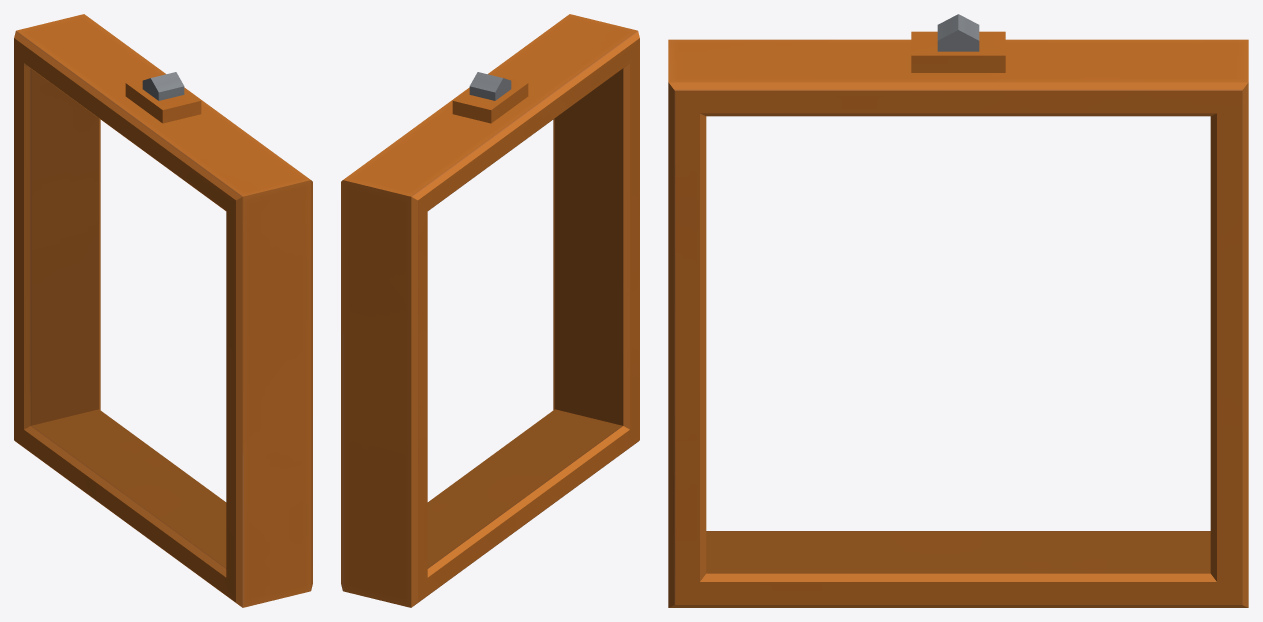
File: band_x.obj
The picture shows the model from 3 angles, left to right: view 1: azimuth 30°, elevation 25°; view 2: azimuth 150°, elevation 25°; view 3: azimuth 270°, elevation 25°; orthographic projection. The views are drawn at different scales.
Parts seen in each view (by area): view 1: band_band, band_band_lug, band_band_bolt; view 2: band_band, band_band_lug, band_band_bolt; view 3: band_band, band_band_lug, band_band_bolt.
Part boxes in pixels (x1,y1,x2,y2): band_band: [14, 14, 312, 607]; band_band_lug: [125, 74, 201, 123]; band_band_bolt: [142, 72, 184, 100]; band_band: [341, 14, 639, 607]; band_band_lug: [452, 74, 528, 123]; band_band_bolt: [469, 72, 511, 100]; band_band: [668, 39, 1248, 607]; band_band_lug: [911, 31, 1005, 72]; band_band_bolt: [937, 14, 979, 51].
Size of the model in its own units: 0.1125 by 0.6175 by 0.575.
